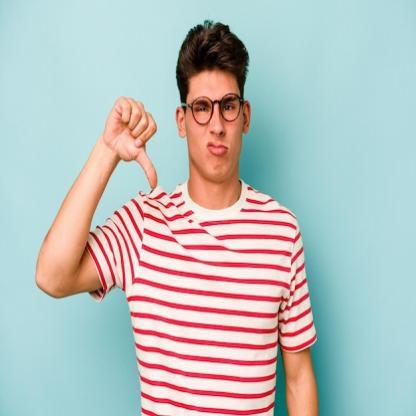thumb_down: (103, 90, 160, 191)
